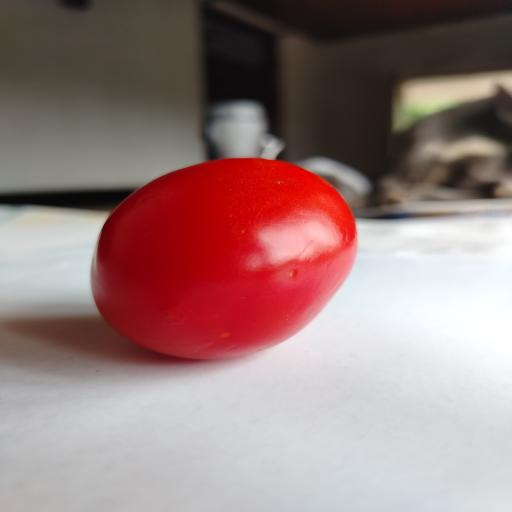ripe: (91, 158, 357, 359)
